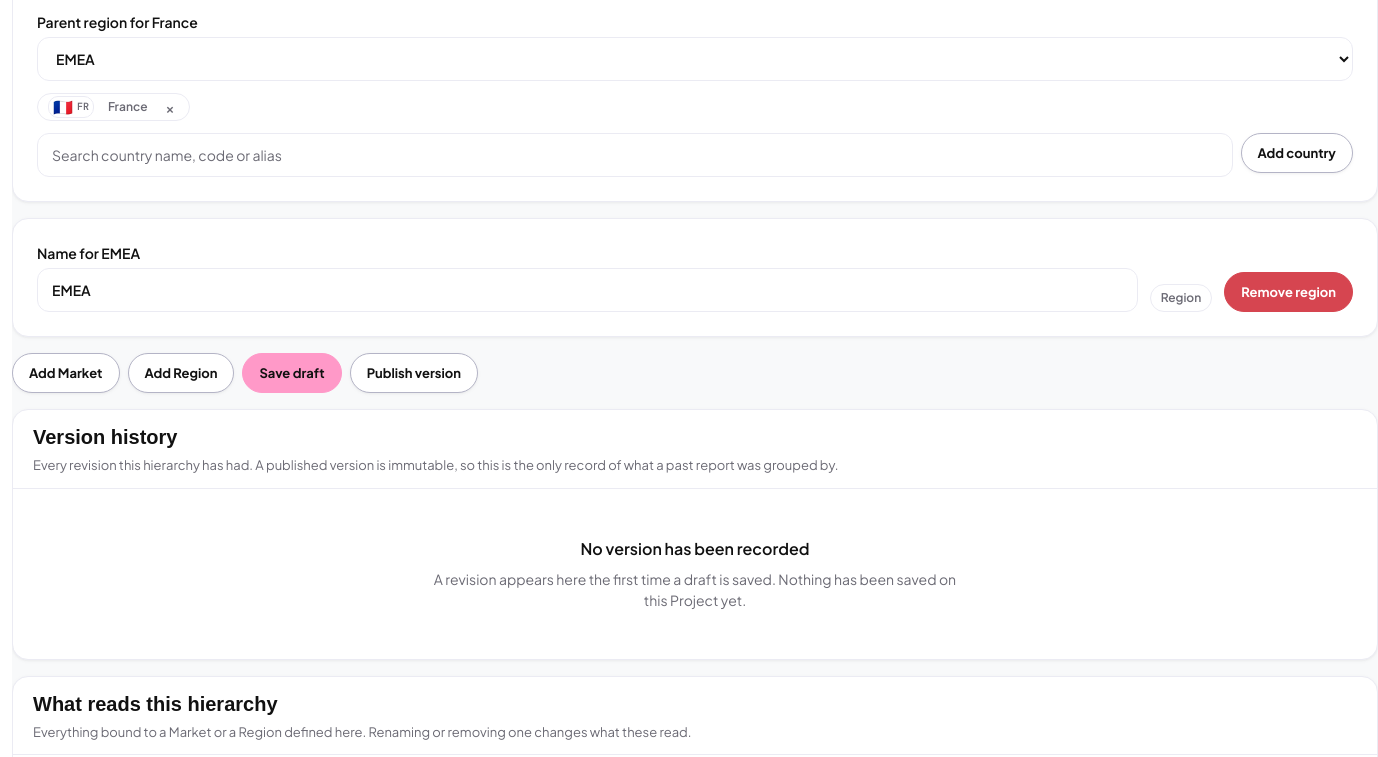
Test: Country Governance workspace › removes an empty node in one click
(page scrolled)
Click the button "Add Region".
click(181, 373)  # box [128,353,234,393]
(page scrolled)
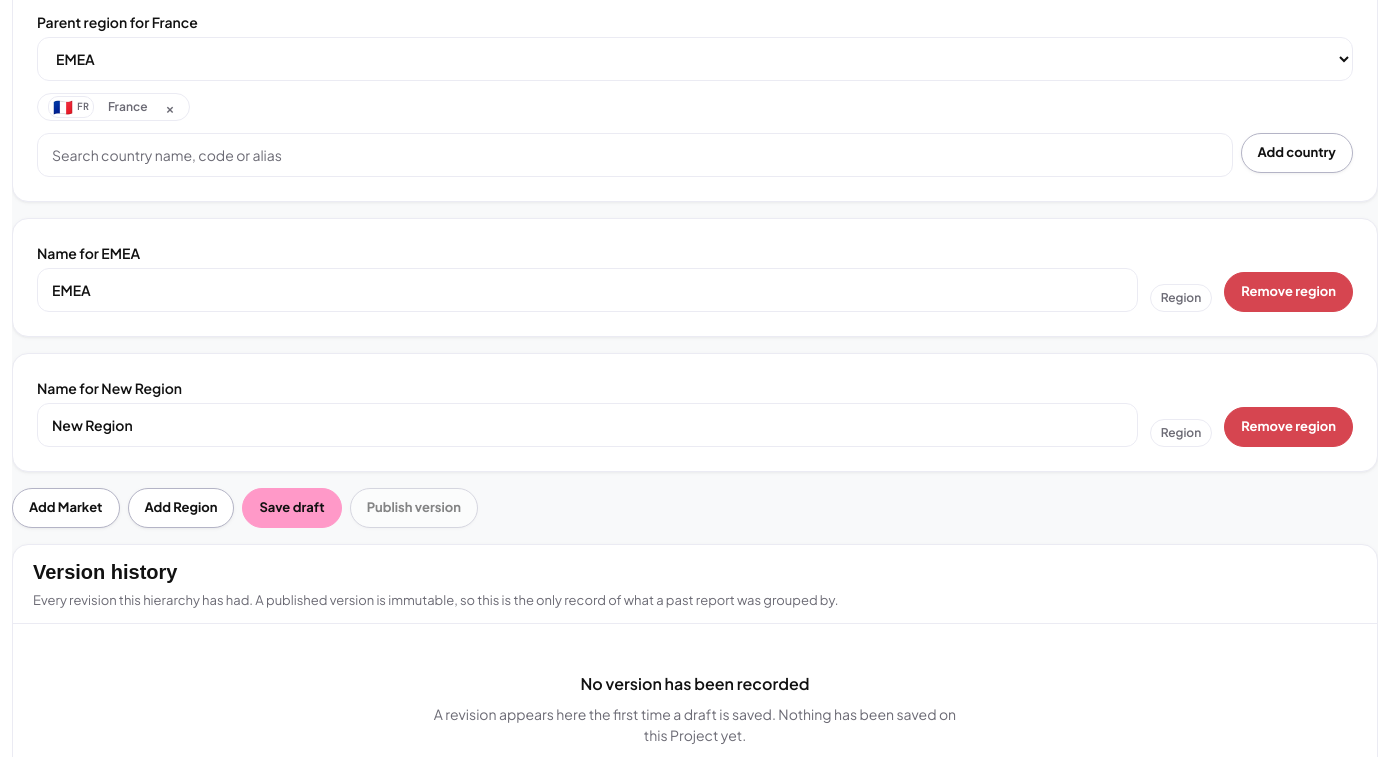
Now the field labelled "Name for New Region" is shown, box [37,403,1138,447]
Click the 2nd button "Remove region".
click(1289, 427)  # box [1224,407,1353,447]
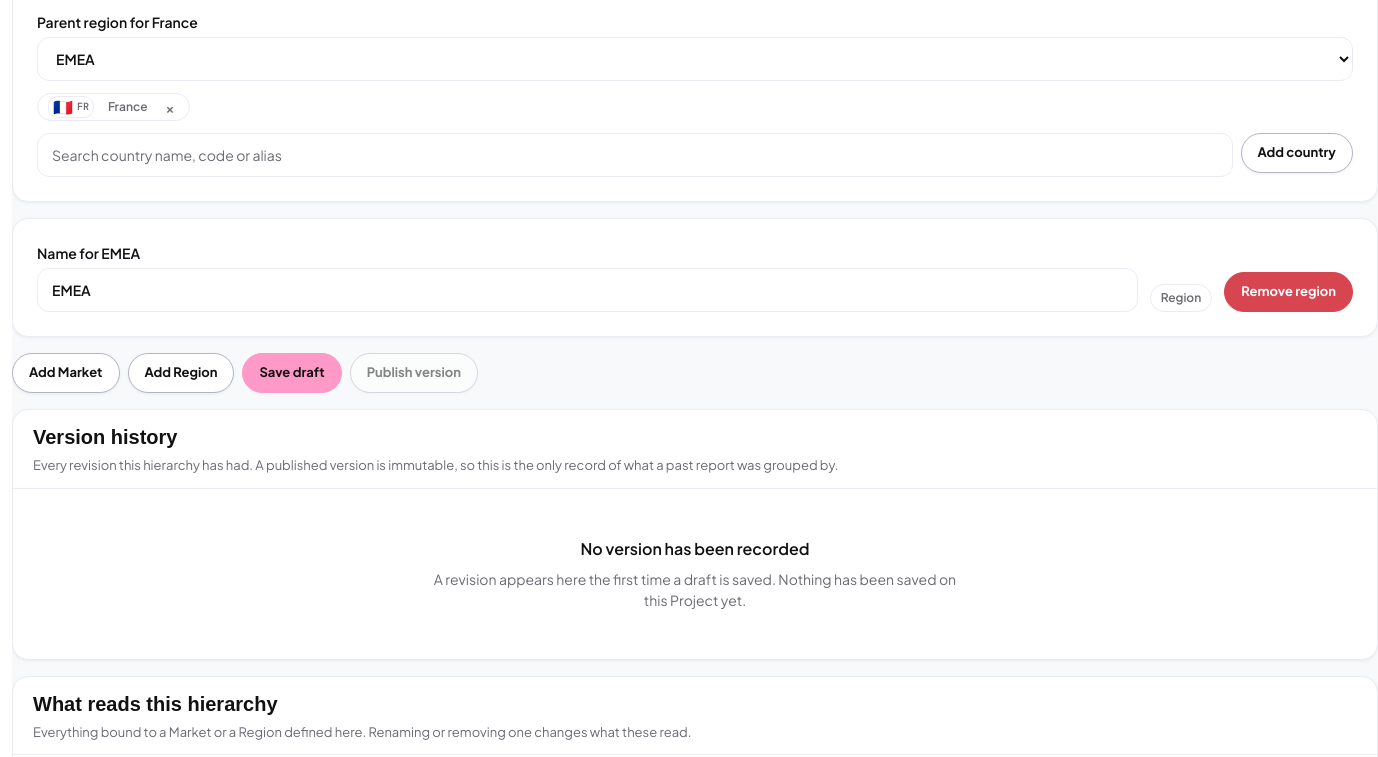
Now the label "Name for New Region" is gone
